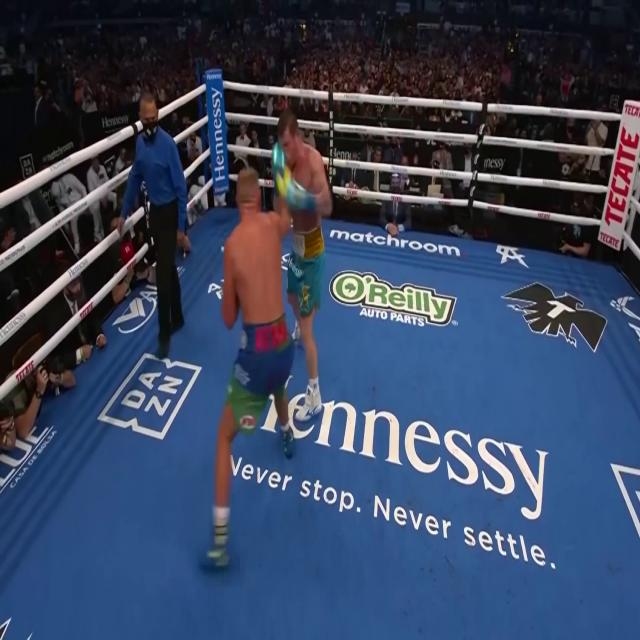boxer_1: (225, 170, 284, 323)
boxer_2: (277, 111, 321, 233)
gloves_1: (278, 167, 293, 200)
gloves_2: (287, 180, 315, 215), (272, 144, 286, 198)
